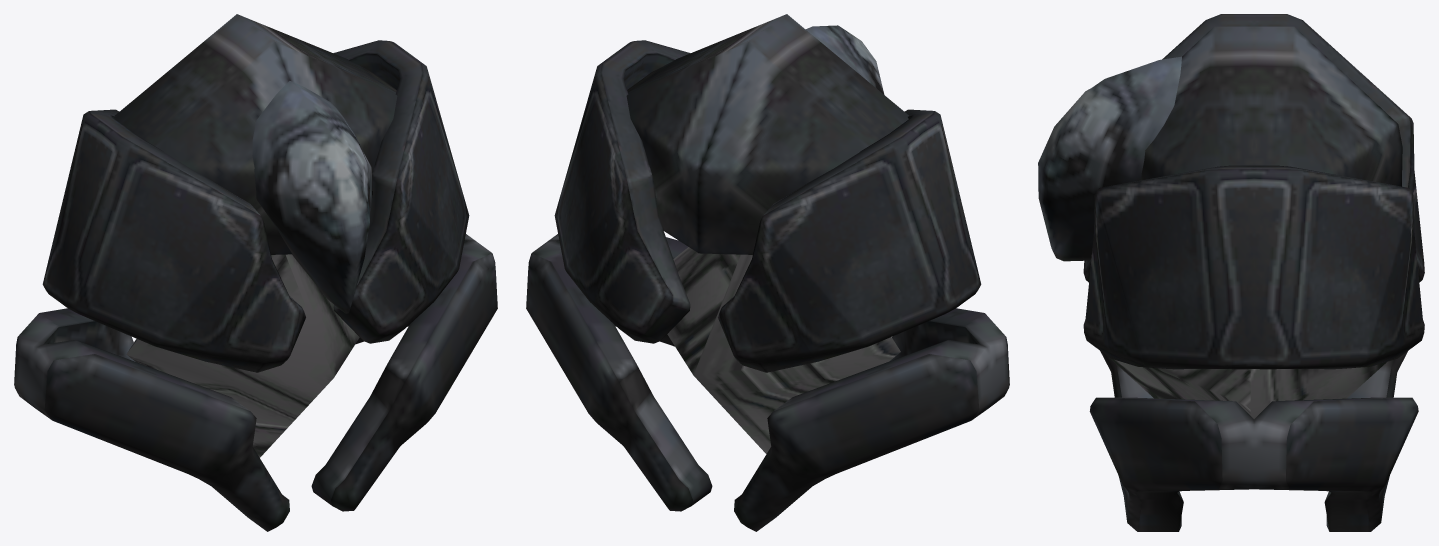
File: Hybrid_Construct_Minion.glb
The picture shows the model from 3 angles, left to right: view 1: azimuth 30°, elevation 25°; view 2: azimuth 150°, elevation 25°; view 3: azimuth 270°, elevation 25°; orthographic projection. The views are drawn at different scales.
Visible parts, largest first — view 1: Mesh, Sphere001; view 2: Mesh, Sphere001; view 3: Mesh, Sphere001.
Part boxes in pixels (x1,y1,x2,y2): Mesh: (14,14,497,531); Sphere001: (126,254,359,457); Mesh: (526,14,1009,531); Sphere001: (667,247,900,453); Mesh: (1038,14,1424,531); Sphere001: (1109,357,1386,418).
Bounding box in the file's own units: 1.55 × 1.48 × 1.08.
2 materials, 2 textured.
